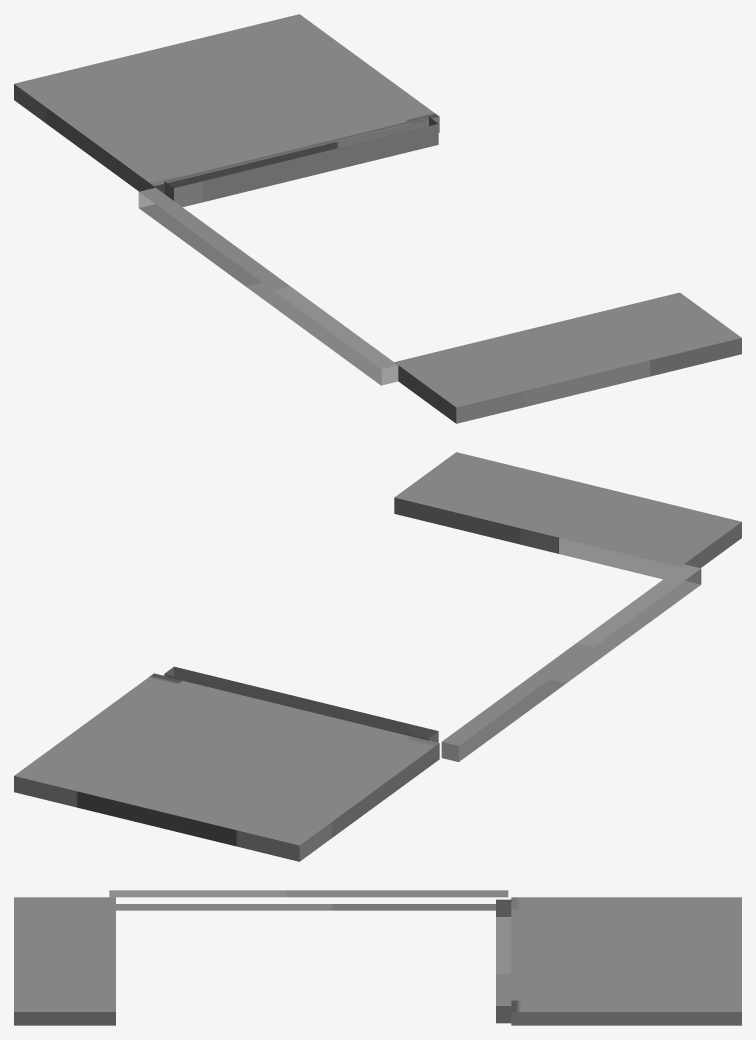
3 views of the same model, one above another, from view 1: azimuth 30°, elevation 25°; view 2: azimuth 150°, elevation 25°; view 3: azimuth 270°, elevation 25° (orthographic). The views are drawn at different scales.
Size of the model in its own units: 0.9735 by 0.065 by 2.46.
